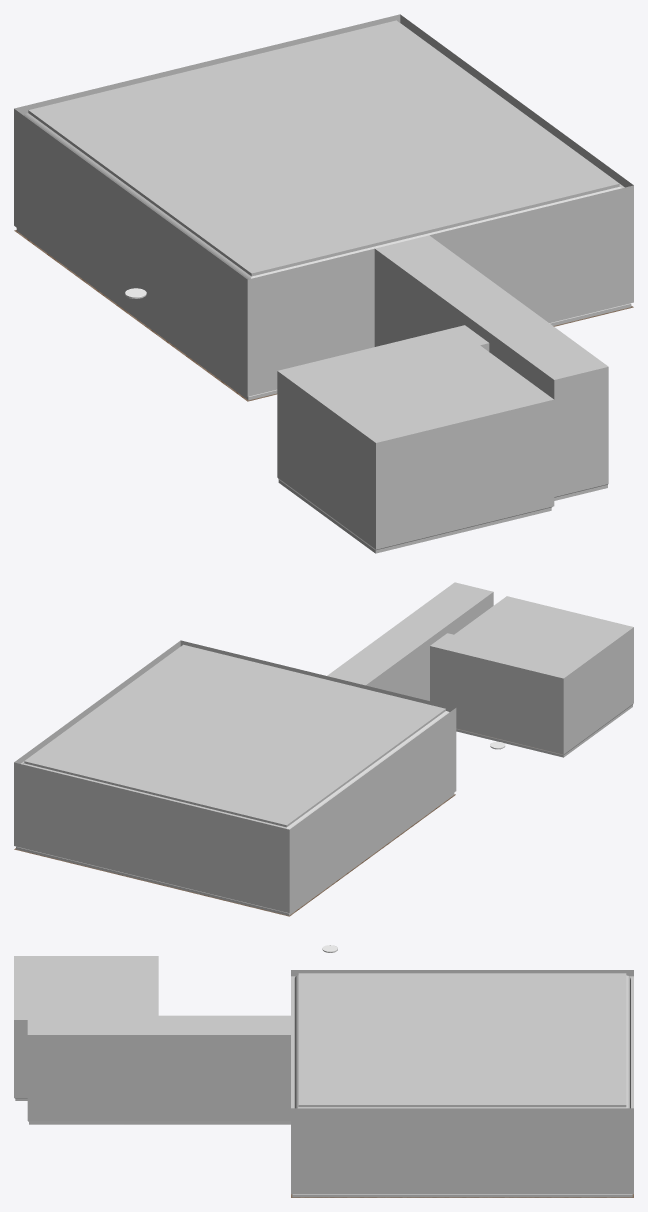
The model's file is interior_free.glb.
The picture shows the model from 3 angles, top to bottom: view 1: azimuth 30°, elevation 25°; view 2: azimuth 150°, elevation 25°; view 3: azimuth 270°, elevation 25°; orthographic projection. The views are drawn at different scales.
Visible parts, largest first — view 1: Room; view 2: Room; view 3: Room.
Boxes of the visible parts, x1,y1,x2,y2 form: Room: (14, 14, 633, 553); Room: (14, 582, 633, 916); Room: (14, 956, 633, 1197).
Size of the model in its own units: 19.13 by 4.64 by 29.14.
Materials: 4 (1 with a texture image).
